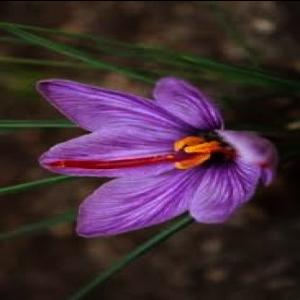Saffron: (37, 76, 277, 240)
